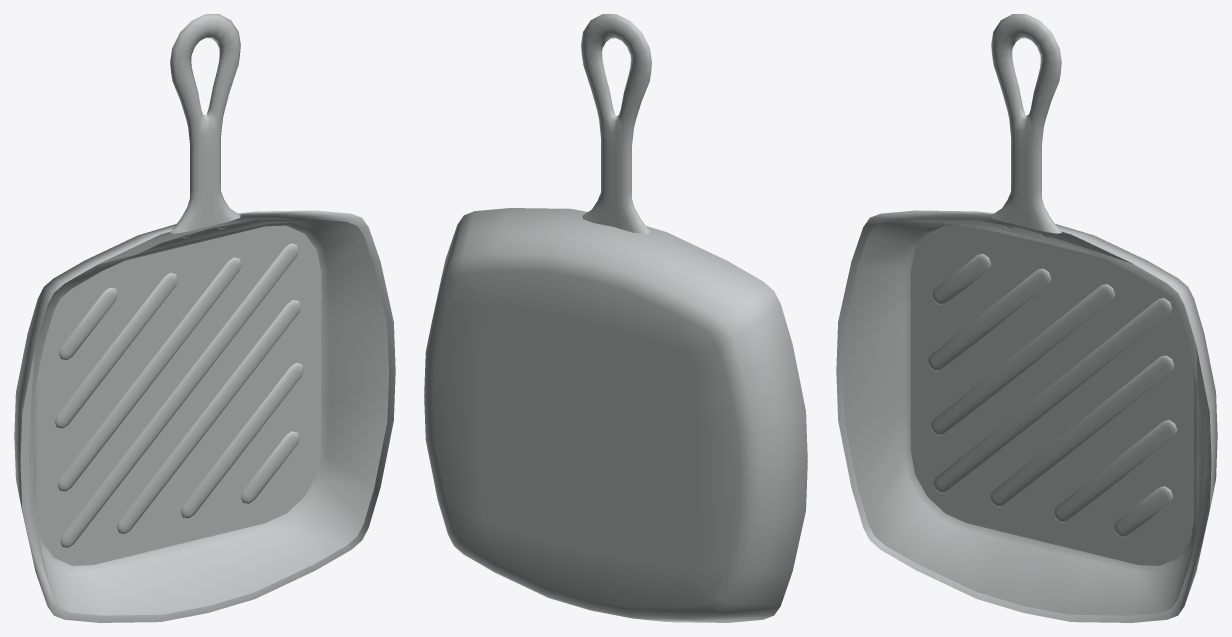
File: MeshPan_17_0_GeomSubset_0.obj
3 views of the same model, side by side, from view 1: azimuth 30°, elevation 25°; view 2: azimuth 150°, elevation 25°; view 3: azimuth 330°, elevation 25° (orthographic).
Parts seen in each view (by area): view 1: MeshPan_17_0_GeomSubset_0; view 2: MeshPan_17_0_GeomSubset_0; view 3: MeshPan_17_0_GeomSubset_0.
Boxes of the visible parts, left/top/right/bottom form: MeshPan_17_0_GeomSubset_0: left=14, top=14, right=395, bottom=622; MeshPan_17_0_GeomSubset_0: left=424, top=14, right=807, bottom=622; MeshPan_17_0_GeomSubset_0: left=836, top=14, right=1217, bottom=622.
Bounding box in the file's own units: 0.2894 × 0.44 × 0.0441.
